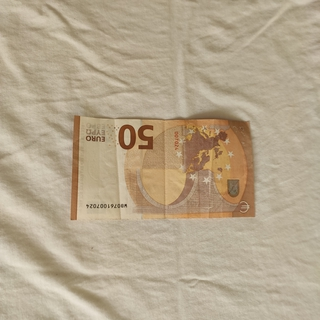50EUROBack: (69, 114, 256, 221)
